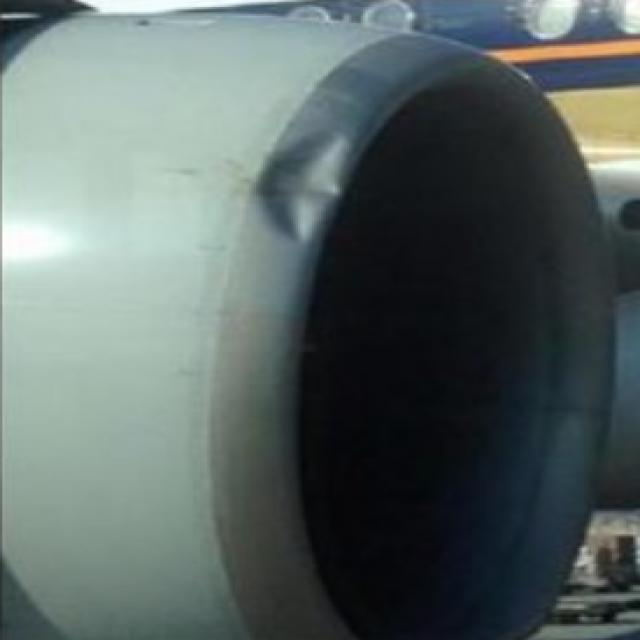dents: (206, 54, 356, 245)
